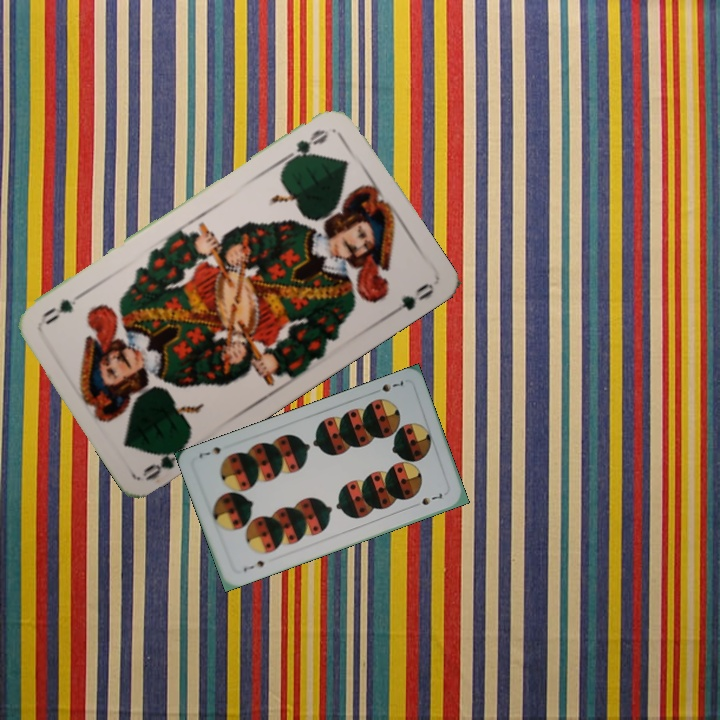GO: (139, 438, 190, 483), (280, 125, 332, 165)
S7: (369, 376, 406, 396), (239, 556, 267, 574)
